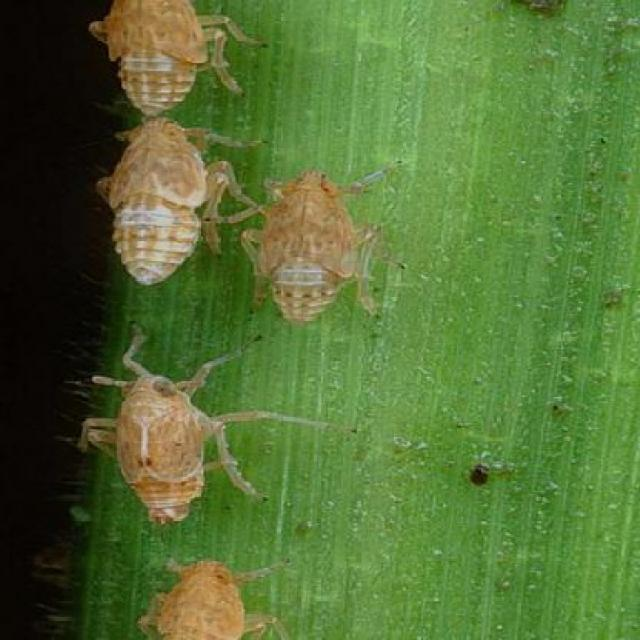brown-planthopper: (86, 344, 263, 528), (102, 120, 226, 289), (90, 0, 258, 114), (250, 171, 376, 323), (140, 552, 302, 640)
